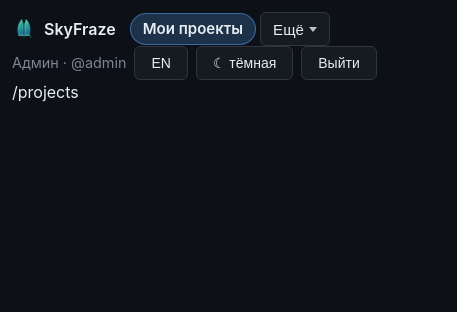
Test case: Header — навигация на узком экране › меню раскрывается, показывает разделы и закрывается по Escape
Click the button with aria-label "Ещё разделы": (295, 29) [260,12,330,46]
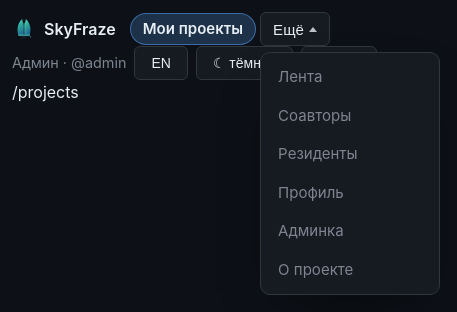
Check: the menu item "Резиденты" is shown, box [278,144,358,163]
Check: the menu item "Админка" is shown, box [278,221,344,240]
Check: the menu item "Лента" is shown, box [278,67,322,86]
Press Escape
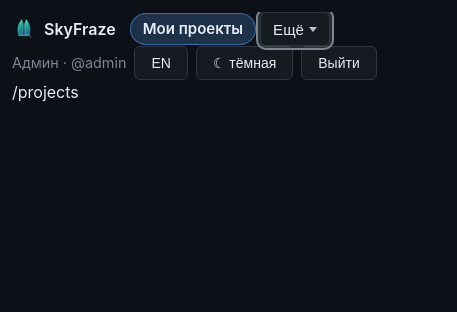
Check: the menu is gone
